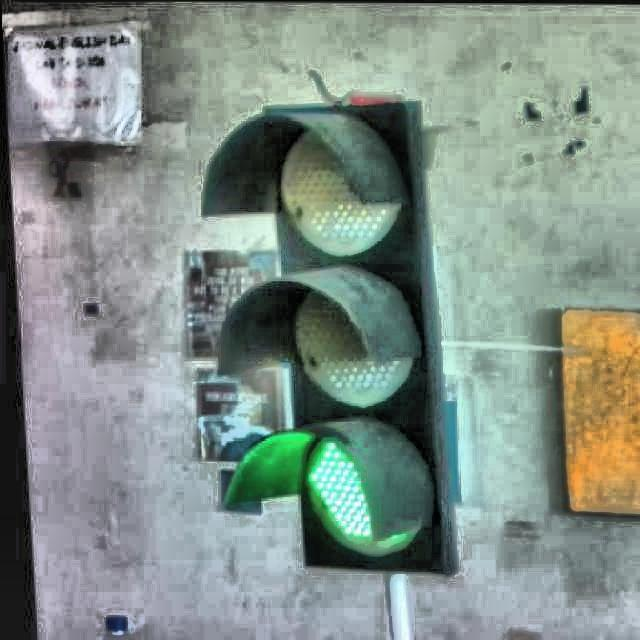green: (256, 105, 458, 582)
